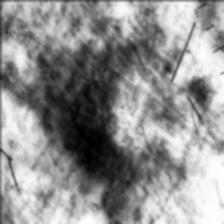Potentially Malignant Skin Tumors: (30, 22, 224, 202)
